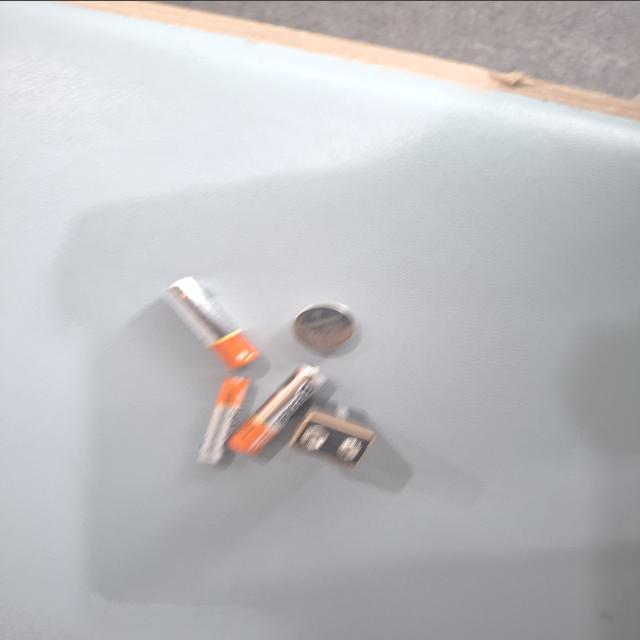9V: (543, 358, 624, 423)
AA: (483, 395, 609, 470), (367, 446, 491, 516)
AAA: (498, 452, 616, 492)
COIN: (401, 374, 467, 422)
